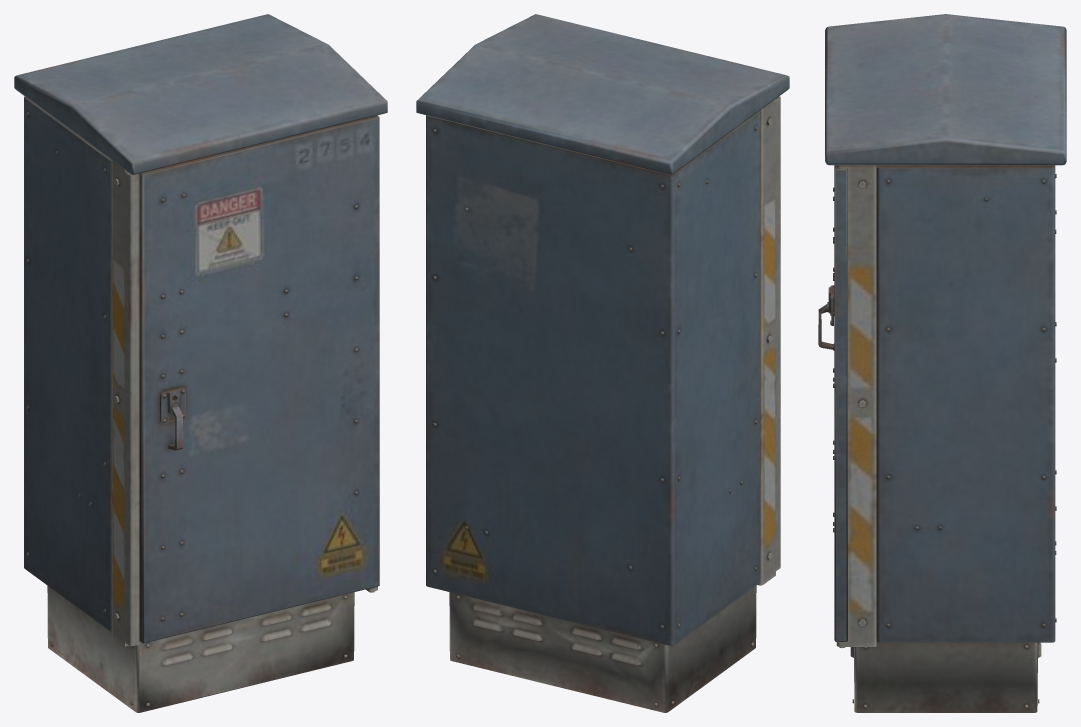
The model's file is utility_box_01.glb.
The picture shows the model from 3 angles, left to right: view 1: azimuth 30°, elevation 25°; view 2: azimuth 150°, elevation 25°; view 3: azimuth 270°, elevation 25°; orthographic projection.
Visible parts, largest first — view 1: utility_box_01_box; view 2: utility_box_01_box; view 3: utility_box_01_box.
Part boxes in pixels (x1,y1,x2,y2): utility_box_01_box: (14, 14, 387, 712); utility_box_01_box: (416, 14, 789, 712); utility_box_01_box: (818, 14, 1066, 712).
Bounding box in the file's own units: 0.52 × 1.12 × 0.432.
1 material, 1 textured.
